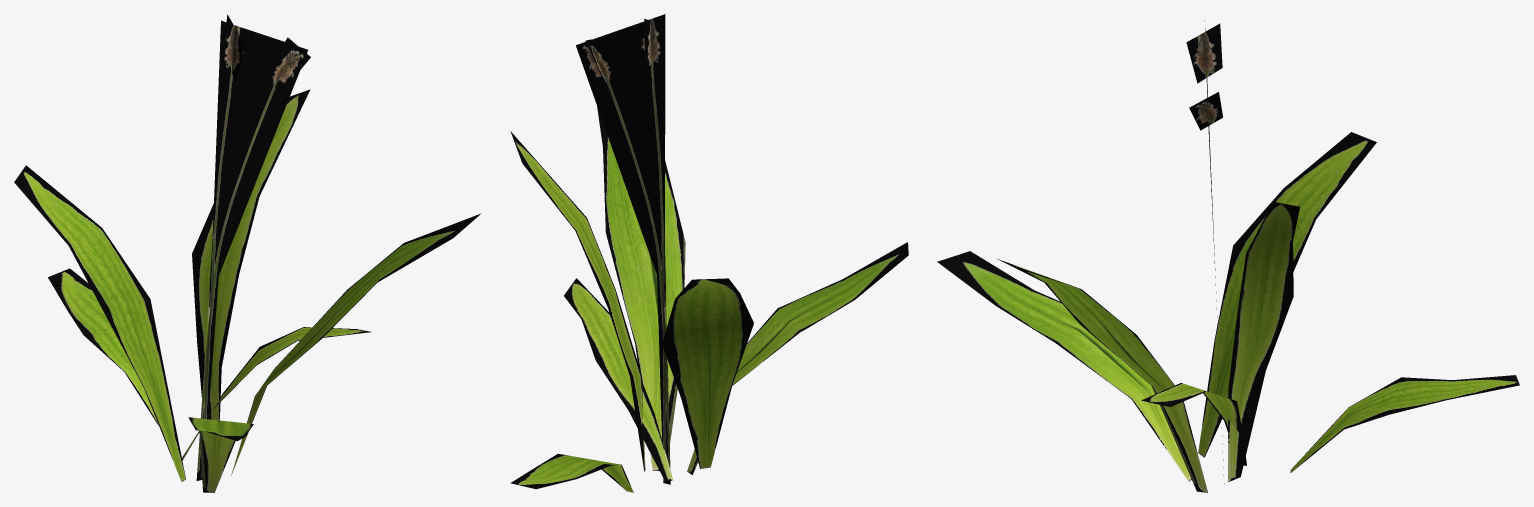
File: 11_plantago_lanceolata_02_small_001.fbx
3 renders of one model, left to right at view 1: azimuth 30°, elevation 25°; view 2: azimuth 150°, elevation 25°; view 3: azimuth 270°, elevation 25°, orthographic. The views are drawn at different scales.
Parts seen in each view (by area): view 1: 11_plantago_lanceolata_02_small.001; view 2: 11_plantago_lanceolata_02_small.001; view 3: 11_plantago_lanceolata_02_small.001.
Part boxes in pixels (box(x1,y1,x2,y2)): 11_plantago_lanceolata_02_small.001: box(14, 14, 481, 492); 11_plantago_lanceolata_02_small.001: box(510, 14, 908, 492); 11_plantago_lanceolata_02_small.001: box(937, 20, 1519, 492).
Size of the model in its own units: 0.1461 by 0.2142 by 0.2376.
